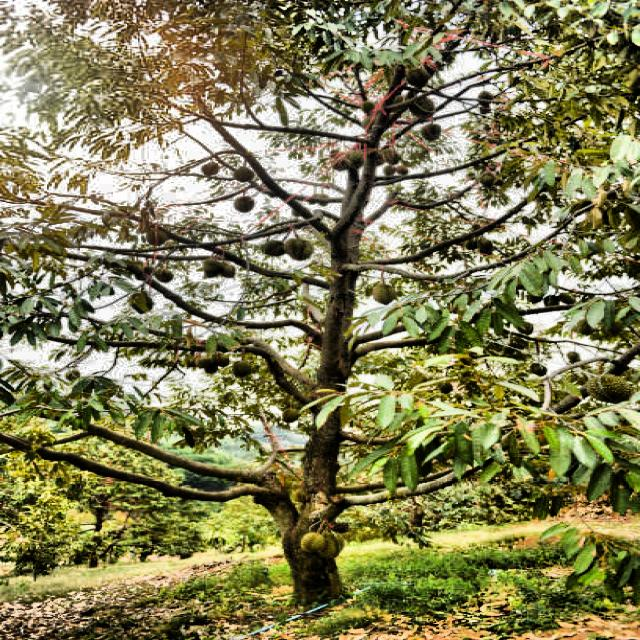arvore: (264, 177, 392, 633)
